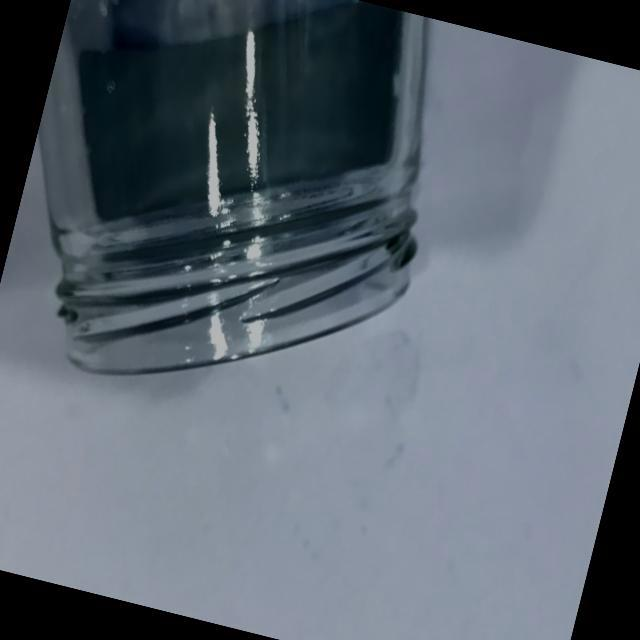glass: (0, 0, 481, 451)
